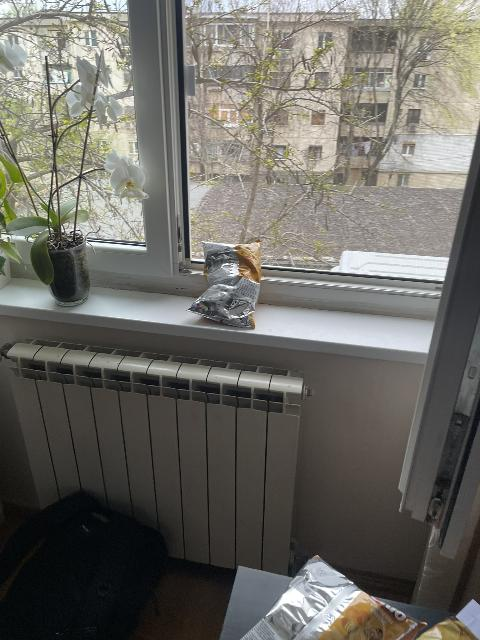Chio Cascaval 125g: (218, 552, 423, 640)
Chio Hula Hoops Cheese 70g: (186, 240, 262, 327)
